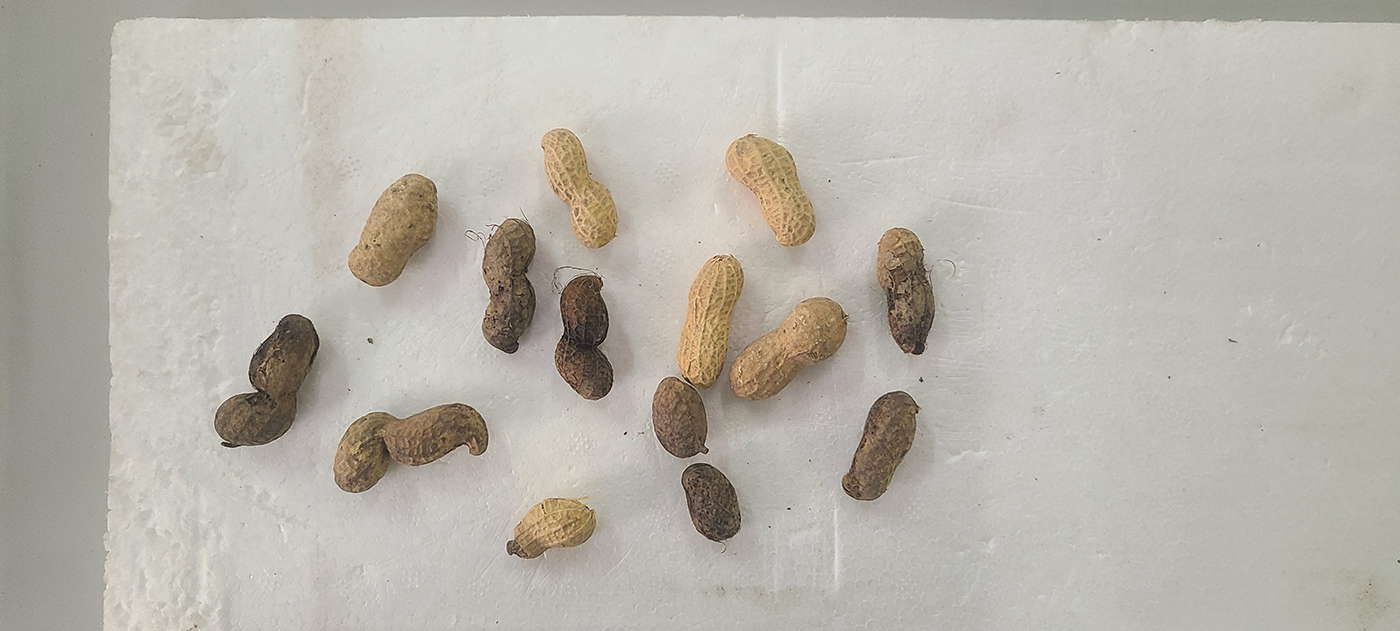h: (730, 296, 848, 401), (347, 173, 438, 286), (726, 134, 816, 247), (541, 128, 618, 248), (678, 257, 743, 388), (508, 496, 597, 560)
l: (214, 313, 321, 446), (333, 403, 490, 493), (841, 390, 918, 500), (875, 227, 936, 356), (480, 219, 537, 354), (554, 274, 614, 400), (681, 462, 741, 540), (651, 378, 708, 458)
